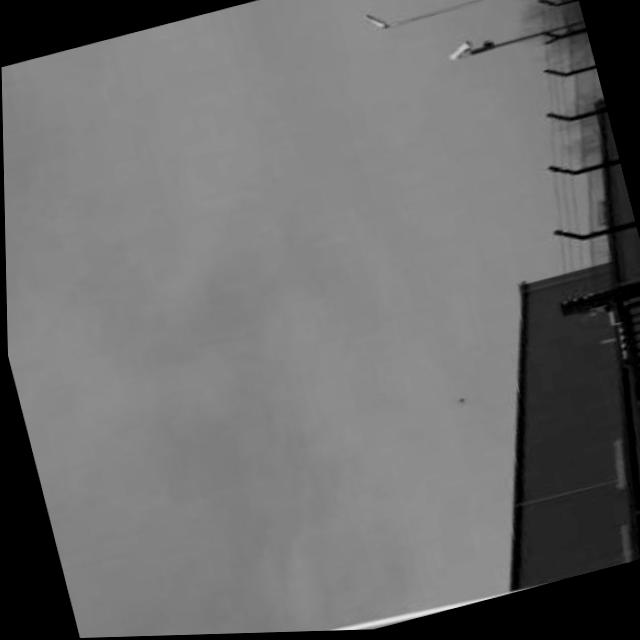helikopter: (445, 393, 470, 413)
